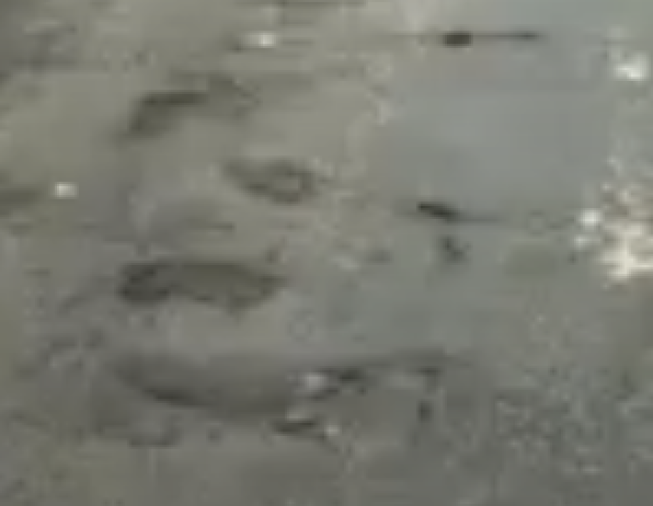Retak Buaya: (85, 43, 324, 342), (43, 351, 459, 467), (475, 360, 653, 506), (396, 179, 501, 290), (1, 1, 105, 79), (378, 27, 559, 57)
